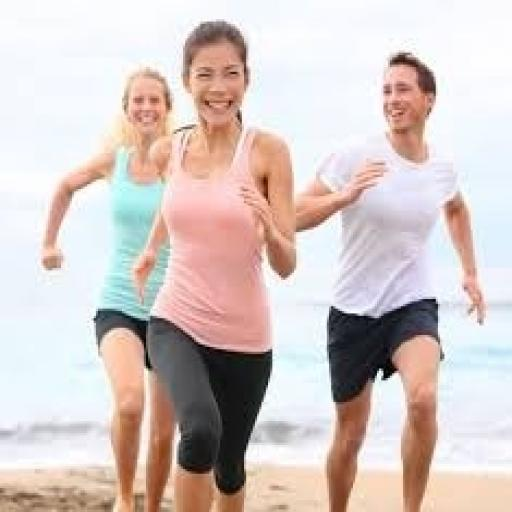running: (292, 48, 490, 510), (130, 16, 300, 510), (37, 62, 181, 510)
